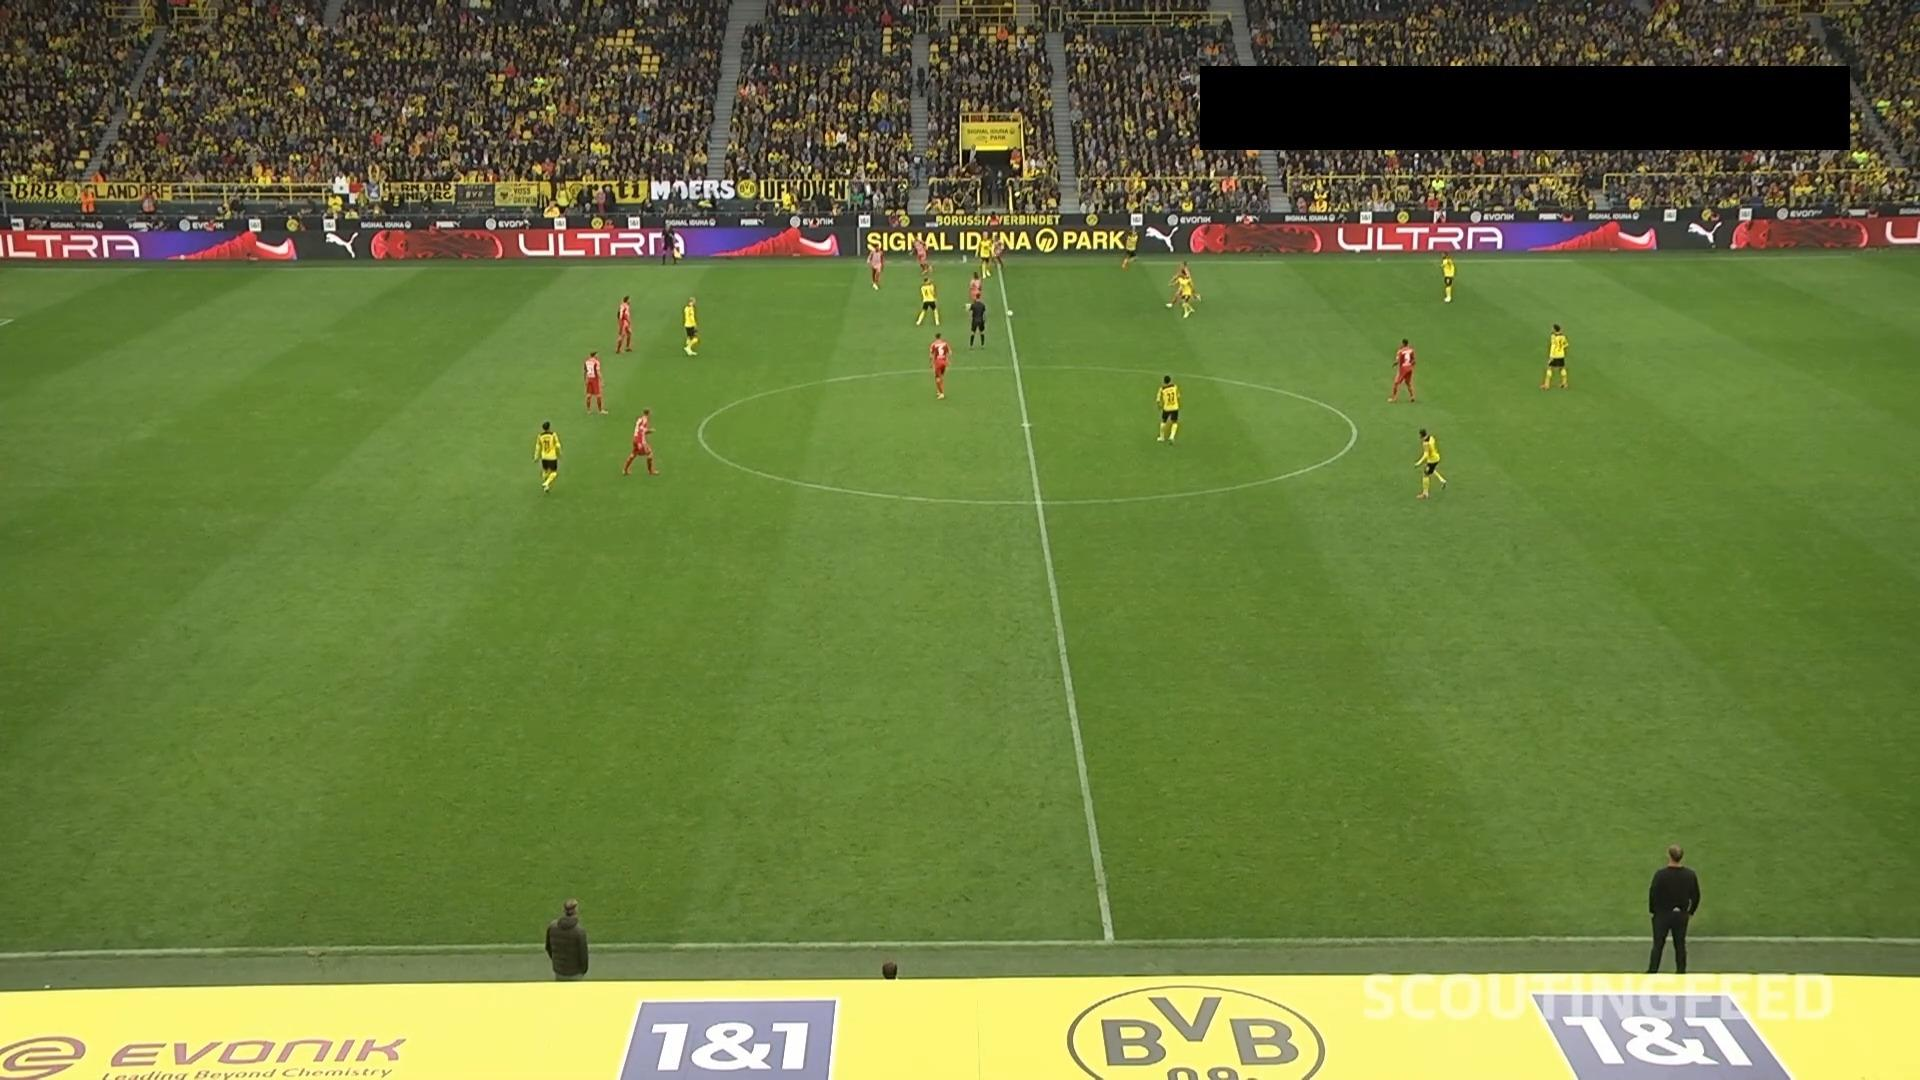ball: (1005, 309, 1014, 317)
